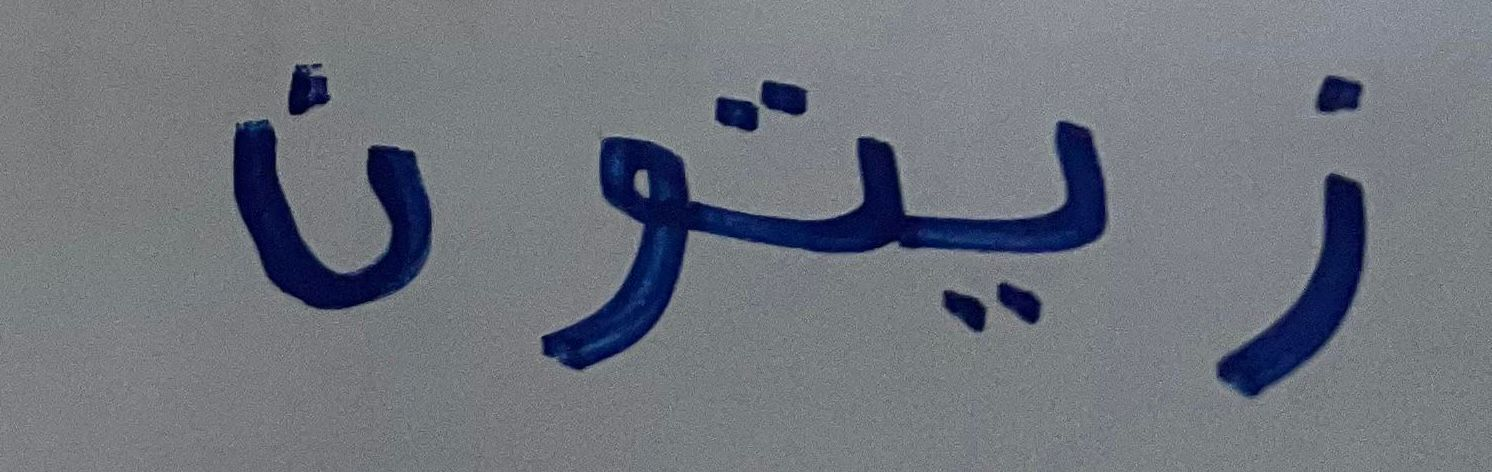teh: (195, 27, 479, 369), (705, 40, 909, 359)
waw: (492, 85, 700, 380)
yeh: (914, 95, 1136, 360)
zain: (1156, 30, 1426, 427)
